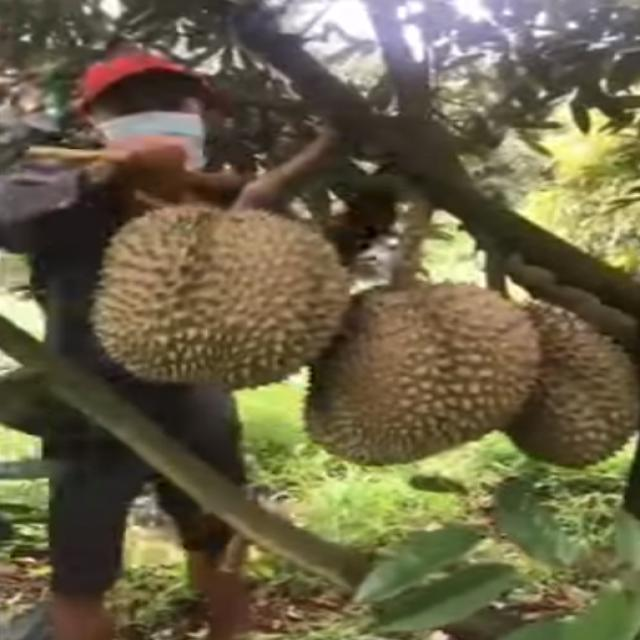mature: (84, 202, 348, 385), (304, 276, 540, 472), (489, 295, 639, 473)
